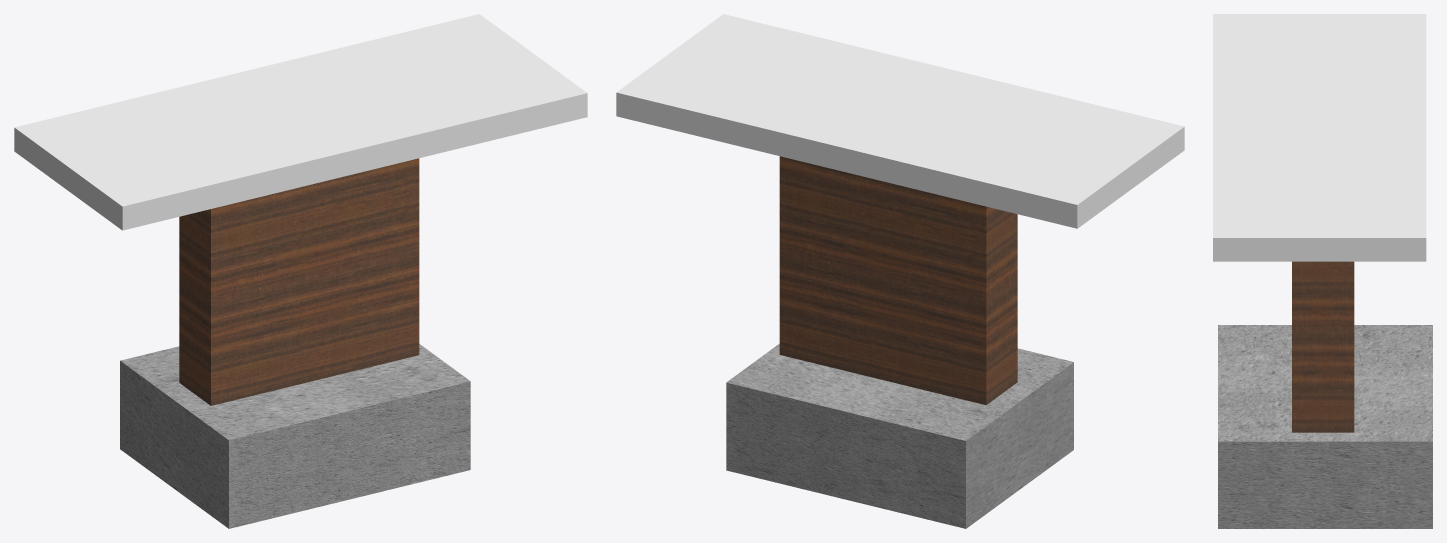
The model's file is podium1.dae.
The picture shows the model from 3 angles, left to right: view 1: azimuth 30°, elevation 25°; view 2: azimuth 150°, elevation 25°; view 3: azimuth 270°, elevation 25°; orthographic projection.
Parts seen in each view (by area): view 1: top, mid (×2), bottom; view 2: top, mid (×2), bottom; view 3: top, bottom, mid.
Boxes of the visible parts, x1,y1,x2,y2 form: top: (14, 14, 587, 230); mid (×2): (179, 158, 419, 405); bottom: (120, 344, 470, 528); top: (616, 14, 1184, 228); mid (×2): (779, 156, 1017, 404); bottom: (726, 344, 1073, 528); top: (1213, 14, 1426, 261); bottom: (1218, 325, 1432, 528); mid: (1292, 261, 1354, 432).
Bounding box in the file's own units: 27.54 × 11.43 × 19.85.
